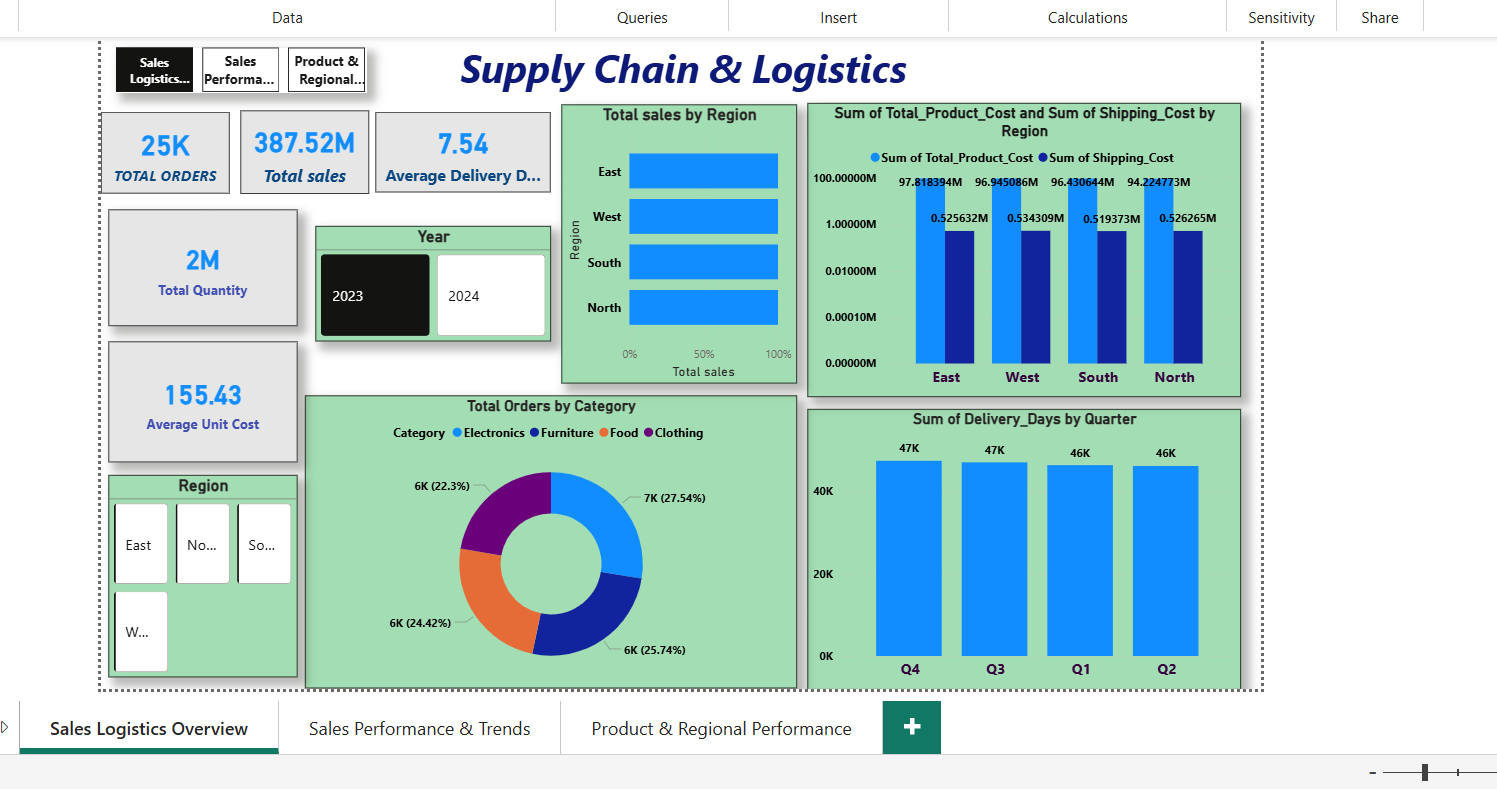

This screenshot's page, from the dashboard's own definition file:
{"tool":"powerbi","page":{"name":"Sales Logistics Overview","canvas":[1280,720],"ordinal":0},"visuals":[{"type":"textbox","box":[352,0,584,74],"z":0},{"type":"card","fields":{"Values":["Supply chain logistics Orders.TOTAL ORDERS"]},"box":[0,83.3,141.7,90],"z":1000},{"type":"card","fields":{"Values":["dim_product.Total sales"]},"box":[153.3,81.7,141.7,91.7],"z":2000},{"type":"clusteredColumnChart","fields":{"Y":["Sum(Supply chain logistics Orders.Delivery_Days)"],"Category":["dim_date.Quarter"]},"box":[780.2,410.8,478.7,309.8],"z":3000},{"type":"card","fields":{"Values":["dim_date.Average Delivery DAYS"]},"box":[303.3,83.3,193.3,88.3],"z":4000},{"type":"donutChart","title":"Total Orders by Category","fields":{"Y":["Supply chain logistics Orders.TOTAL ORDERS"],"Category":["dim_product.Category"]},"box":[225.3,395.9,543.3,324.7],"z":5000},{"type":"clusteredColumnChart","fields":{"Y":["Sum(Supply chain logistics Orders.Total_Product_Cost)","Sum(Supply chain logistics Orders.Shipping_Cost)"],"Category":["dim_region.Region"]},"box":[780.2,72.9,478.7,324.7],"z":6000},{"type":"advancedSlicerVisual","fields":{"Values":["dim_date.Year"]},"box":[236.9,208.7,260.1,127.5],"z":7000},{"type":"hundredPercentStackedBarChart","fields":{"Category":["dim_region.Region"],"Y":["dim_product.Total sales"]},"box":[508.5,74.5,260.1,308.1],"z":8000},{"type":"card","title":"Total Quantity","fields":{"Values":["dim_product.Total Quantity"]},"box":[8.3,190,208.3,128.3],"z":9000},{"type":"card","title":"Average Unit Cost","fields":{"Values":["dim_product.Average Unit Cost"]},"box":[8.3,336.7,208.3,133.3],"z":10000},{"type":"pageNavigator","box":[16.6,11.6,276.6,49.7],"z":11000},{"type":"advancedSlicerVisual","fields":{"Values":["dim_region.Region"]},"box":[8.3,483.3,208.3,223.3],"z":12000}]}

Visuals, with their boxes on the page's 1280x720 design canvas (x1, y1, x2, y2). These are canvas units, not pixel positions in the 1497x789 screenshot, which may show the page scaled, cropped or inside an application window:
textbox: <box>352,0,936,74</box>
card - Supply chain logistics Orders.TOTAL ORDERS: <box>0,83,142,173</box>
card - dim_product.Total sales: <box>153,82,295,173</box>
clusteredColumnChart - Sum(Supply chain logistics Orders.Delivery_Days) x dim_date.Quarter: <box>780,411,1259,721</box>
card - dim_date.Average Delivery DAYS: <box>303,83,497,172</box>
"Total Orders by Category" donutChart: <box>225,396,769,721</box>
clusteredColumnChart - Sum(Supply chain logistics Orders.Total_Product_Cost) x Sum(Supply chain logistics Orders.Shipping_Cost): <box>780,73,1259,398</box>
advancedSlicerVisual - dim_date.Year: <box>237,209,497,336</box>
hundredPercentStackedBarChart - dim_region.Region x dim_product.Total sales: <box>508,74,769,383</box>
"Total Quantity" card: <box>8,190,217,318</box>
"Average Unit Cost" card: <box>8,337,217,470</box>
pageNavigator: <box>17,12,293,61</box>
advancedSlicerVisual - dim_region.Region: <box>8,483,217,707</box>
